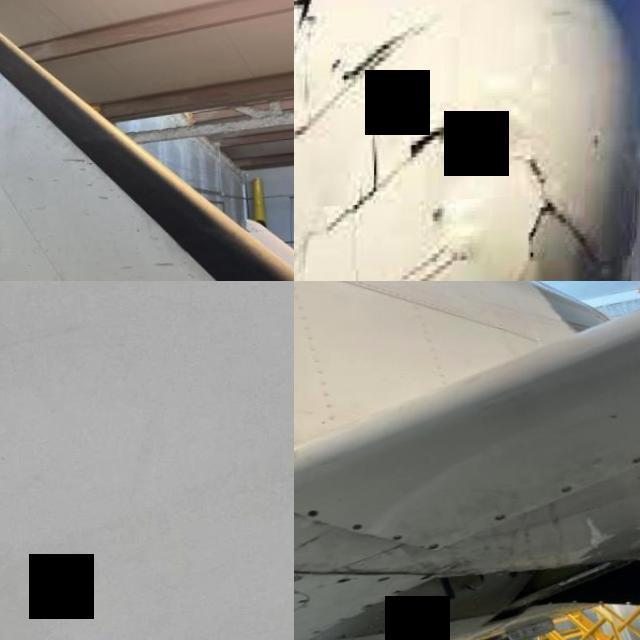Crack: (522, 182, 612, 281), (394, 132, 464, 170), (294, 0, 321, 32)
Missing_Fastener: (494, 517, 508, 526), (310, 511, 321, 520), (354, 526, 366, 534), (429, 546, 441, 554), (338, 580, 353, 586), (394, 537, 406, 544), (363, 606, 375, 613), (394, 592, 404, 600), (379, 579, 392, 585), (422, 578, 433, 585)
